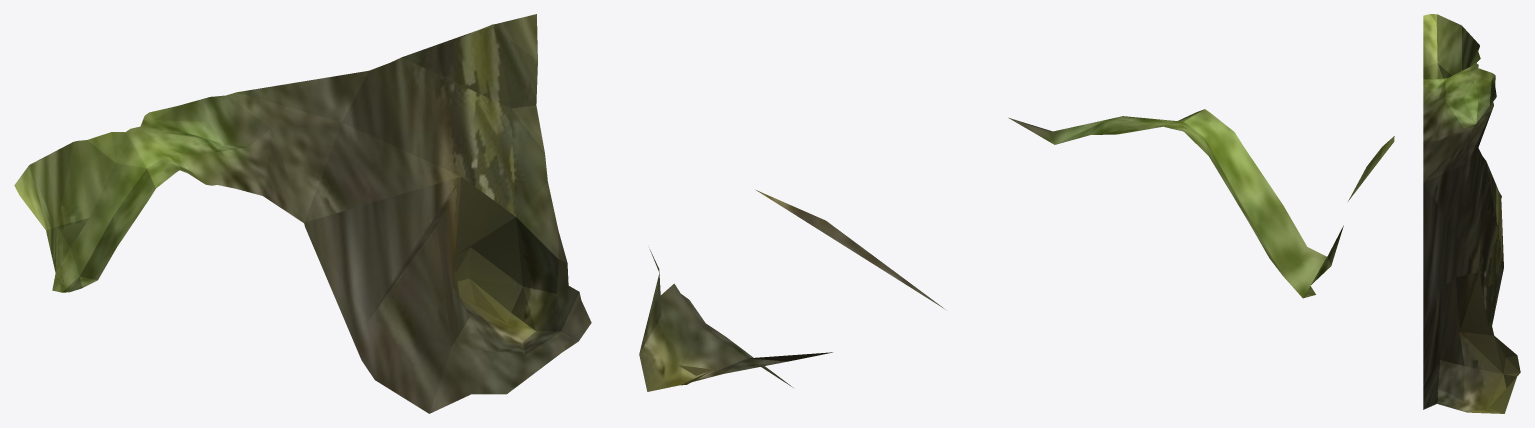
3 renders of one model, left to right at view 1: azimuth 30°, elevation 25°; view 2: azimuth 150°, elevation 25°; view 3: azimuth 270°, elevation 25°, orthographic. The views are drawn at different scales.
Bounding box in the file's own units: 2.72 × 1.46 × 0.5662.
1 material, 1 textured.
